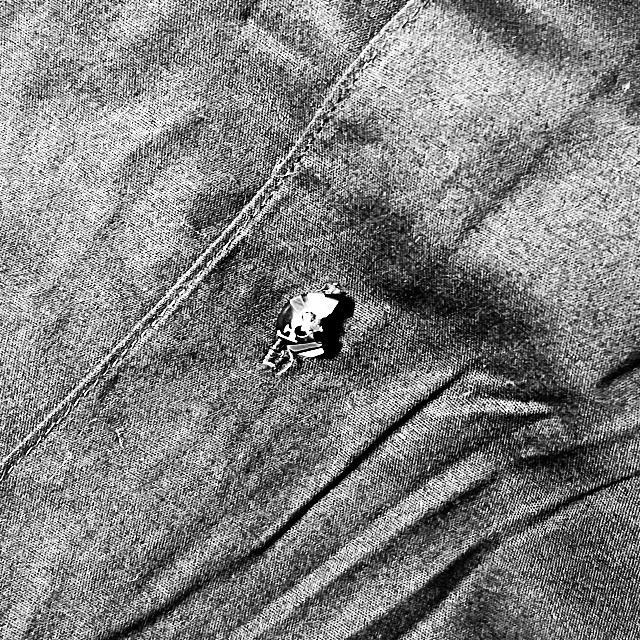Broken_button: (254, 276, 355, 374)
